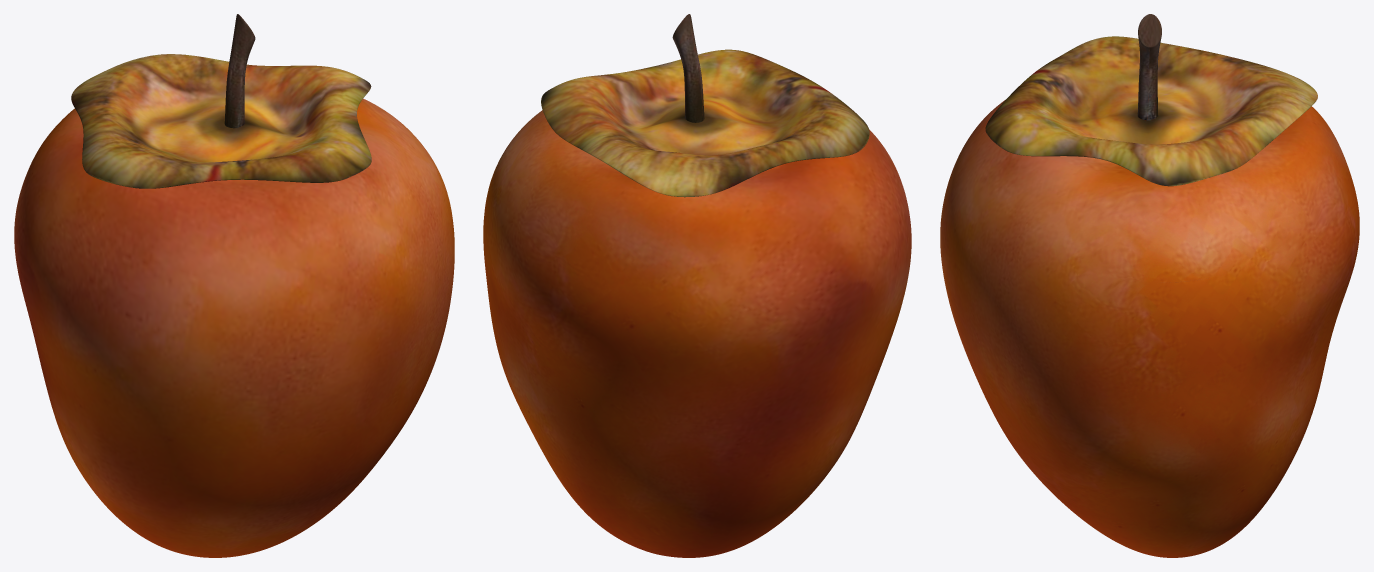
File: Xurmo.fbx
3 renders of one model, left to right at view 1: azimuth 30°, elevation 25°; view 2: azimuth 150°, elevation 25°; view 3: azimuth 270°, elevation 25°, orthographic. The views are drawn at different scales.
Parts seen in each view (by area): view 1: 10199_Persimmon-L3; view 2: 10199_Persimmon-L3; view 3: 10199_Persimmon-L3.
Boxes of the visible parts, x1,y1,x2,y2 form: 10199_Persimmon-L3: [14, 14, 454, 557]; 10199_Persimmon-L3: [483, 14, 911, 557]; 10199_Persimmon-L3: [940, 14, 1359, 557].
Bounding box in the file's own units: 940 × 1258 × 901.
Materials: 1 (1 with a texture image).
